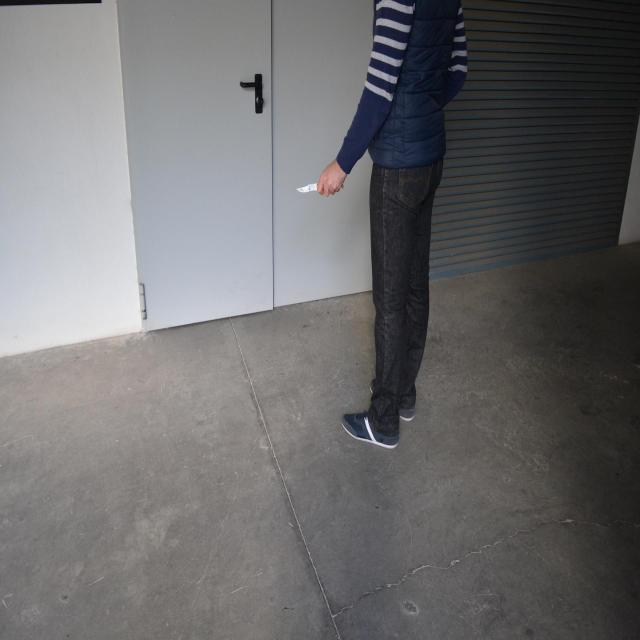Knife: (295, 181, 347, 195)
